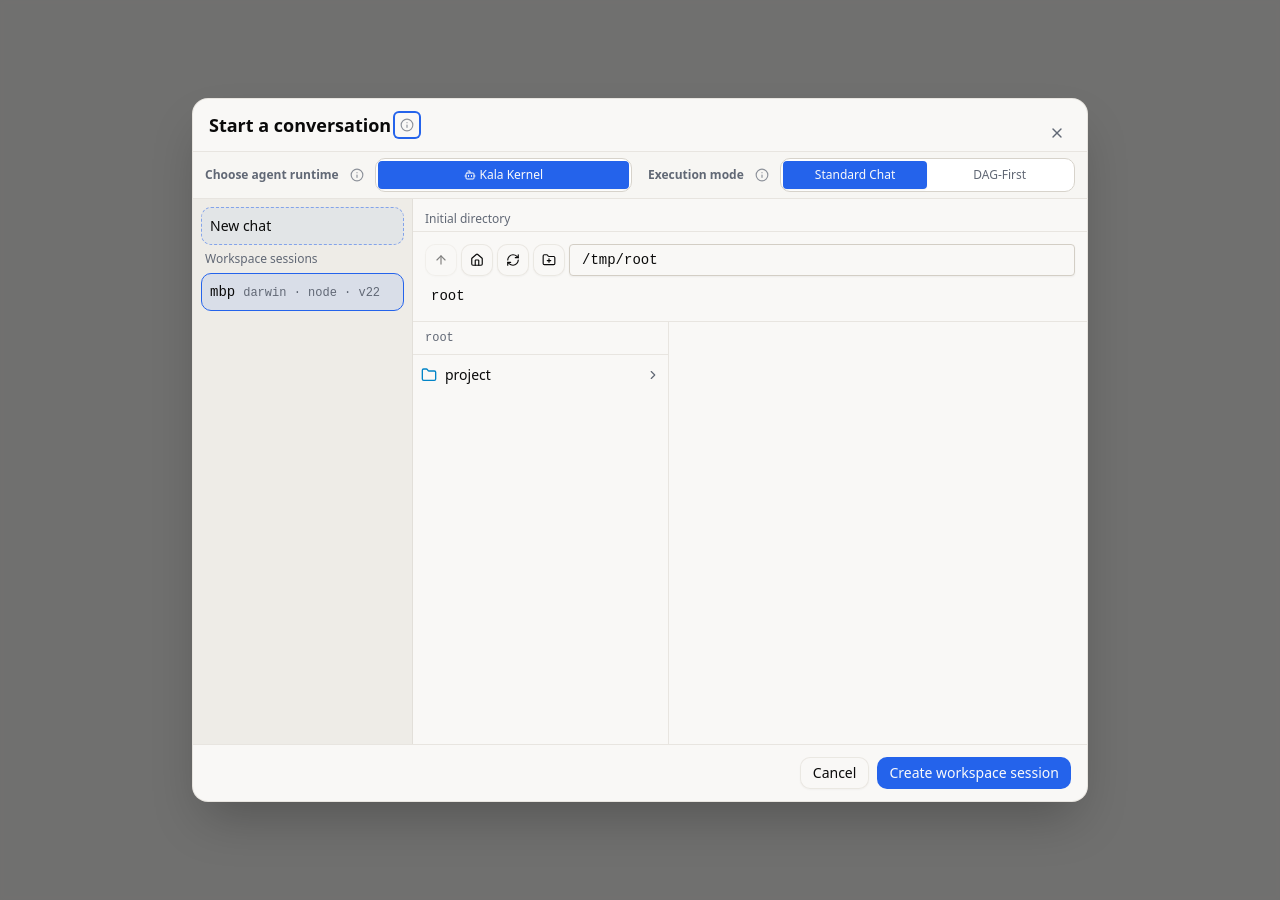
Scenario: NewSessionDialog › keeps session options compact and gives each Finder column independent vertical scrolling
The width and height of the screenshot is (1280, 900).
Click the button "project" at (540, 375), box [413,359,668,391]
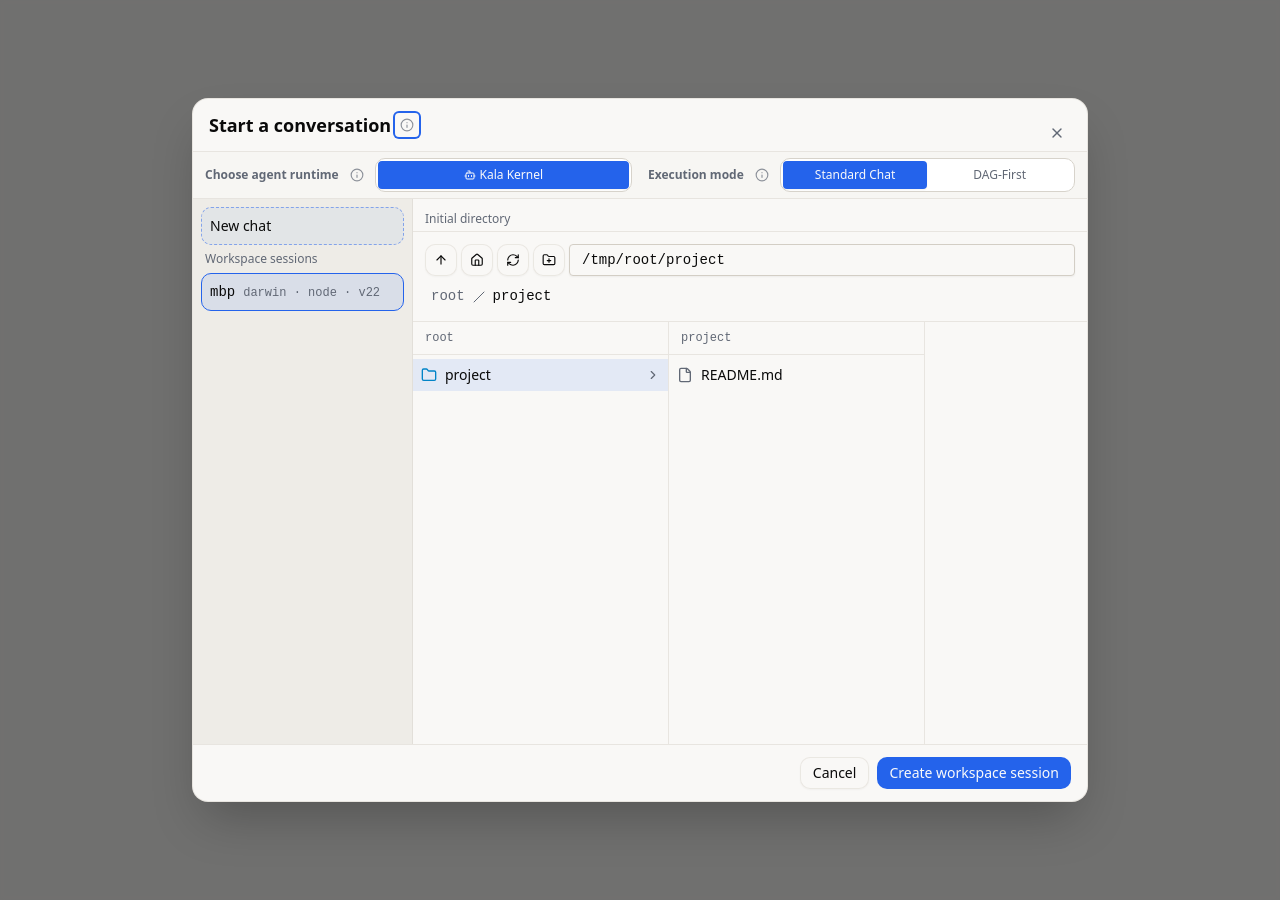
Now the number of elements with test id "finder-column" is 2, box [413,322,669,744]; [669,322,925,744]
Now the number of elements with test id "finder-column-scroll" is 2, box [413,359,668,391]; [669,359,924,391]
Now the elements with test id "finder-column-header" read "root", "project", in this order, box [413,322,668,355]; [669,322,924,355]
